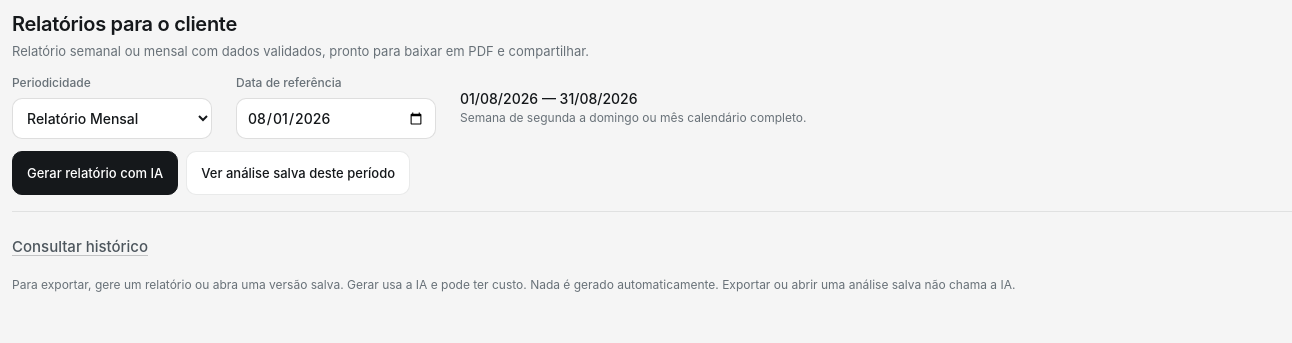
Test case: Relatórios — fluxo autorizado existente e estados › trata ausência de análise salva sem inventar conteúdo
Click the button "Ver análise salva deste período".
click(298, 173)  # box [186,151,410,195]
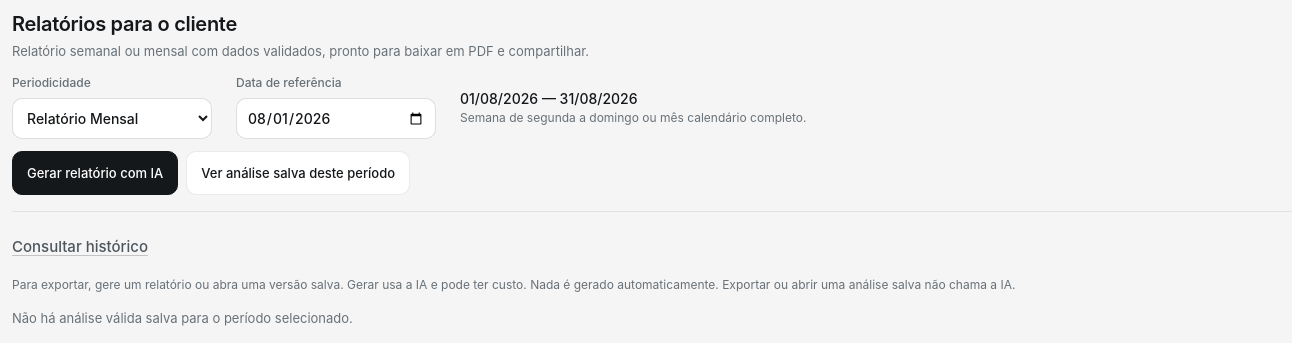
Expected: the text "Não há análise válida salva" is shown, [12,310,353,326]
